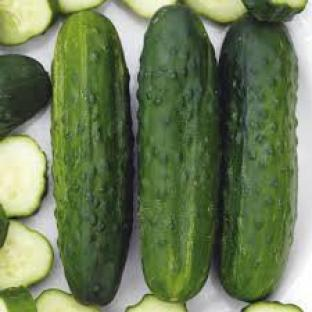Cucumber: (139, 6, 220, 302), (52, 12, 133, 305), (220, 17, 298, 300), (0, 56, 51, 138), (0, 135, 47, 217), (0, 221, 54, 289), (37, 290, 99, 311), (127, 294, 187, 311), (0, 288, 37, 311), (243, 303, 302, 311), (0, 204, 9, 248)
